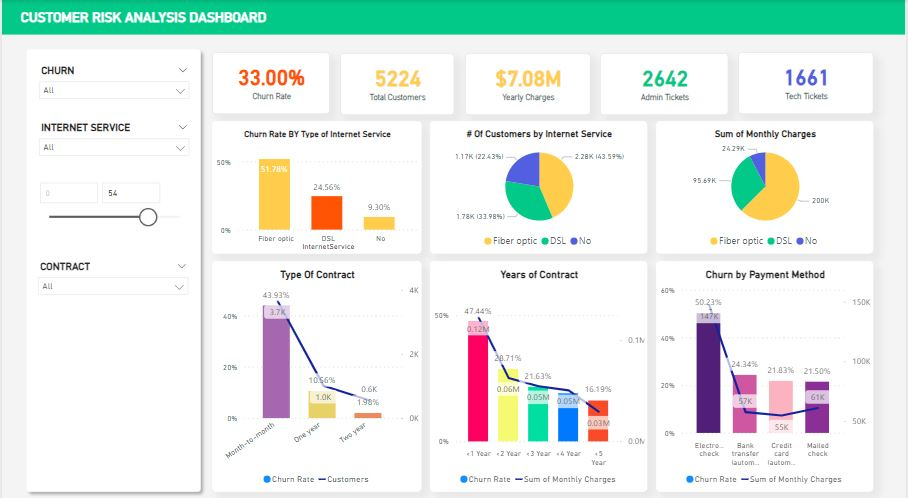

The dashboard page shown, as its layout file describes it:
{"tool":"powerbi","page":{"name":"Customer Risk Analysis","canvas":[1280,720],"ordinal":1},"visuals":[{"type":"shape","box":[0,0,1280,49],"z":0},{"type":"textbox","box":[21,8,438,33],"z":1000},{"type":"shape","box":[25,61,265,645],"z":2000},{"type":"slicer","fields":{"Values":["Churn.Churn"]},"box":[42,82,233,81],"z":3000},{"type":"slicer","fields":{"Values":["Churn.InternetService"]},"box":[42,163,233,81],"z":4000},{"type":"slicer","fields":{"Values":["Churn.tenure"]},"box":[41,244,233,97],"z":5000},{"type":"slicer","fields":{"Values":["Churn.Contract"]},"box":[41,360,233,81],"z":6000},{"type":"card","fields":{"Values":["CountNonNull(01 Churn-Dataset.customerID)"]},"box":[479.1,75.1,161.6,87.9],"z":7000},{"type":"card","fields":{"Values":["Churn.% Churn Rate"]},"box":[297.6,73.7,167.2,87.9],"z":8000},{"type":"card","fields":{"Values":["Sum(Churn.TotalCharges)"]},"box":[656,75,178,88],"z":9000},{"type":"card","fields":{"Values":["Sum(Churn.numAdminTickets)"]},"box":[848,75,182,88],"z":10000},{"type":"card","fields":{"Values":["Sum(Churn.numTechTickets)"]},"box":[1043,74,192,88],"z":11000},{"type":"columnChart","title":"Churn Rate BY Type of Internet Service","fields":{"Y":["Churn.% Churn Rate"],"Category":["Churn.InternetService"]},"box":[298,172,297,188],"z":12000},{"type":"pieChart","title":"# Of Customers by Internet Service","fields":{"Y":["CountNonNull(Churn.customerID)"],"Category":["Churn.InternetService"]},"box":[607,172,308,188],"z":13000},{"type":"pieChart","title":"Sum of Monthly Charges","fields":{"Category":["Churn.InternetService"],"Y":["Sum(Churn.MonthlyCharges)"]},"box":[927,172,308,188],"z":14000},{"type":"lineStackedColumnComboChart","title":"Type Of Contract","fields":{"Y2":["CountNonNull(Churn.customerID)"],"Y":["Churn.% Churn Rate"],"Category":["Churn.Contract"]},"box":[298,370,297,327],"z":15000},{"type":"lineStackedColumnComboChart","title":"Years of Contract","fields":{"Y":["Churn.% Churn Rate"],"Y2":["Sum(Churn.MonthlyCharges)"],"Category":["Churn.Tenure(in years)"]},"box":[607,370,308,327],"z":16000},{"type":"lineStackedColumnComboChart","title":"Churn by Payment Method","fields":{"Y":["Churn.% Churn Rate"],"Y2":["Sum(Churn.MonthlyCharges)"],"Category":["Churn.PaymentMethod"]},"box":[927,370,308,327],"z":17000}]}

Visuals, with their boxes in screenshot pixels (x1, y1, x2, y2), scaled from the page's 1280x720 canvas onto the 908x498 screenshot:
shape: [x1=0, y1=0, x2=907, y2=34]
textbox: [x1=15, y1=6, x2=326, y2=28]
shape: [x1=18, y1=42, x2=206, y2=488]
slicer - Churn.Churn: [x1=30, y1=57, x2=195, y2=113]
slicer - Churn.InternetService: [x1=30, y1=113, x2=195, y2=169]
slicer - Churn.tenure: [x1=29, y1=169, x2=194, y2=236]
slicer - Churn.Contract: [x1=29, y1=249, x2=194, y2=305]
card - CountNonNull(01 Churn-Dataset.customerID): [x1=340, y1=52, x2=454, y2=113]
card - Churn.% Churn Rate: [x1=211, y1=51, x2=330, y2=112]
card - Sum(Churn.TotalCharges): [x1=465, y1=52, x2=592, y2=113]
card - Sum(Churn.numAdminTickets): [x1=602, y1=52, x2=731, y2=113]
card - Sum(Churn.numTechTickets): [x1=740, y1=51, x2=876, y2=112]
"Churn Rate BY Type of Internet Service" columnChart: [x1=211, y1=119, x2=422, y2=249]
"# Of Customers by Internet Service" pieChart: [x1=431, y1=119, x2=649, y2=249]
"Sum of Monthly Charges" pieChart: [x1=658, y1=119, x2=876, y2=249]
"Type Of Contract" lineStackedColumnComboChart: [x1=211, y1=256, x2=422, y2=482]
"Years of Contract" lineStackedColumnComboChart: [x1=431, y1=256, x2=649, y2=482]
"Churn by Payment Method" lineStackedColumnComboChart: [x1=658, y1=256, x2=876, y2=482]
